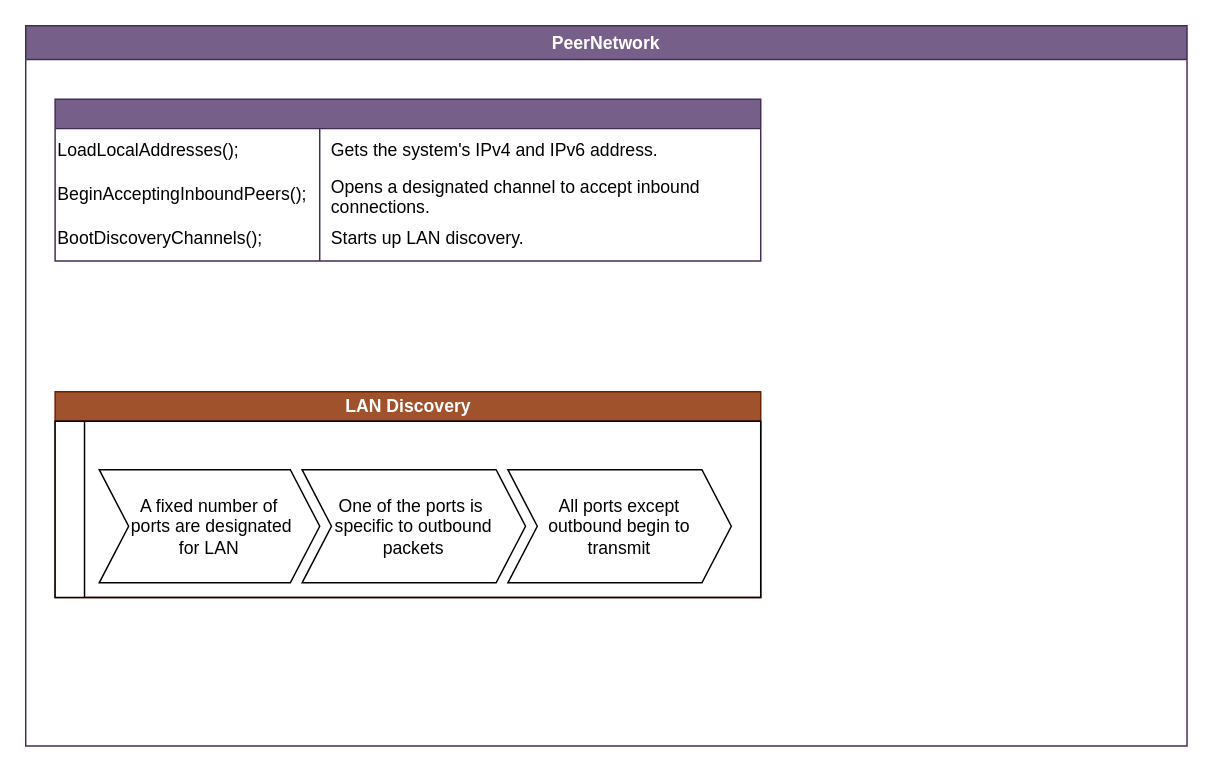
Image size: 1213x772. Some labels were removed from this diagram. Each missing label, with the box of its shape:
LAN Channels: (54, 420, 761, 598)
Setup: (54, 98, 761, 261)
